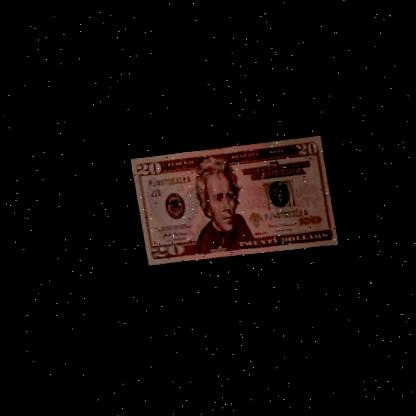twenty-front: (126, 133, 337, 269)
